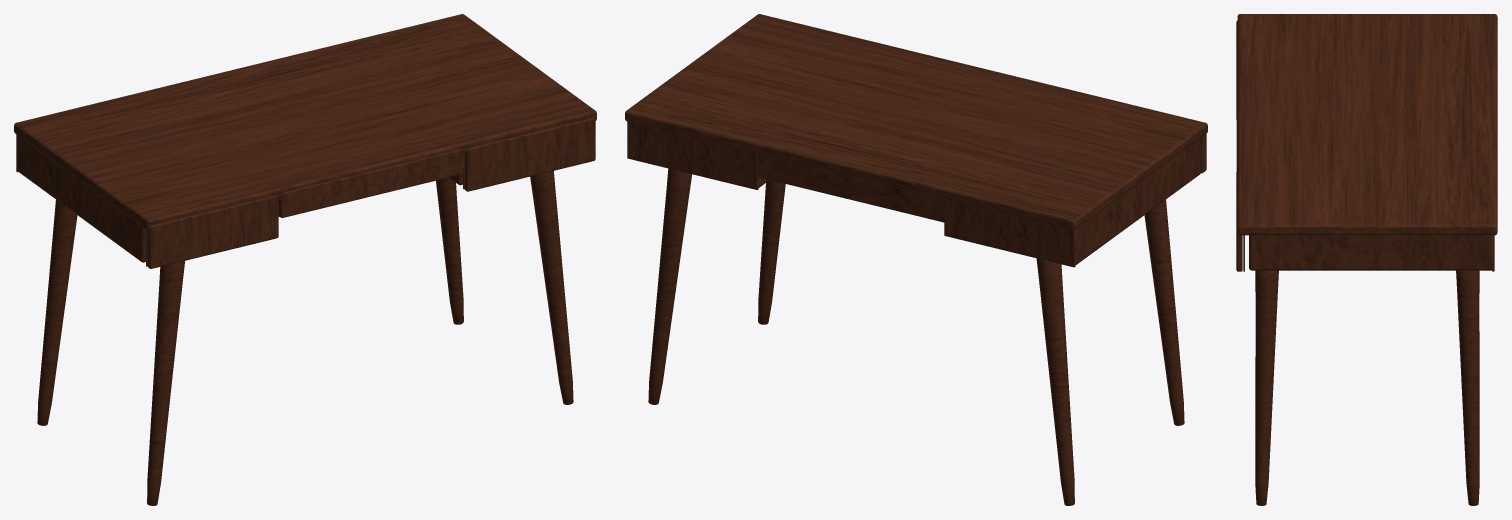
The model's file is table-02.glb.
3 views of the same model, side by side, from view 1: azimuth 30°, elevation 25°; view 2: azimuth 150°, elevation 25°; view 3: azimuth 270°, elevation 25° (orthographic). The views are drawn at different scales.
Visible parts, largest first — view 1: 01_Continuous_walnut_top, 04_L_drawer_push_face, 04_R_drawer_push_face, 02_L_carcase, 08_center_push_to_open_front, 13_leg_LF, 13_leg_RF, 13_leg_LB, 13_leg_RB; view 2: 01_Continuous_walnut_top, 05_L_rear_fillet, 05_R_rear_fillet, 13_leg_LB, 02_L_carcase, 10_back_support_upper, 13_leg_RB, 13_leg_LF, 13_leg_RF; view 3: 01_Continuous_walnut_top, 02_R_carcase, 13_leg_RF, 13_leg_RB, 04_R_drawer_push_face.
Part boxes in pixels (x1=…): 01_Continuous_walnut_top: x1=14, y1=14, x2=596, y2=230; 04_L_drawer_push_face: x1=147, y1=195, x2=278, y2=268; 04_R_drawer_push_face: x1=464, y1=117, x2=595, y2=191; 02_L_carcase: x1=16, y1=134, x2=145, y2=262; 08_center_push_to_open_front: x1=278, y1=149, x2=463, y2=217; 13_leg_LF: x1=147, y1=261, x2=184, y2=505; 13_leg_RF: x1=530, y1=171, x2=573, y2=404; 13_leg_LB: x1=37, y1=199, x2=77, y2=425; 13_leg_RB: x1=436, y1=177, x2=463, y2=324; 01_Continuous_walnut_top: x1=625, y1=14, x2=1207, y2=230; 05_L_rear_fillet: x1=944, y1=199, x2=1075, y2=267; 05_R_rear_fillet: x1=627, y1=121, x2=758, y2=189; 13_leg_LB: x1=1036, y1=258, x2=1074, y2=505; 02_L_carcase: x1=1075, y1=138, x2=1201, y2=264; 10_back_support_upper: x1=757, y1=153, x2=944, y2=222; 13_leg_RB: x1=648, y1=168, x2=691, y2=404; 13_leg_LF: x1=1144, y1=199, x2=1184, y2=425; 13_leg_RF: x1=758, y1=180, x2=785, y2=324; 01_Continuous_walnut_top: x1=1237, y1=14, x2=1497, y2=235; 02_R_carcase: x1=1249, y1=235, x2=1493, y2=270; 13_leg_RF: x1=1255, y1=270, x2=1278, y2=505; 13_leg_RB: x1=1456, y1=270, x2=1479, y2=505; 04_R_drawer_push_face: x1=1236, y1=170, x2=1242, y2=271.
Size of the model in its own units: 1.2 by 0.7562 by 0.6225.
Materials: 3 (2 with a texture image).
